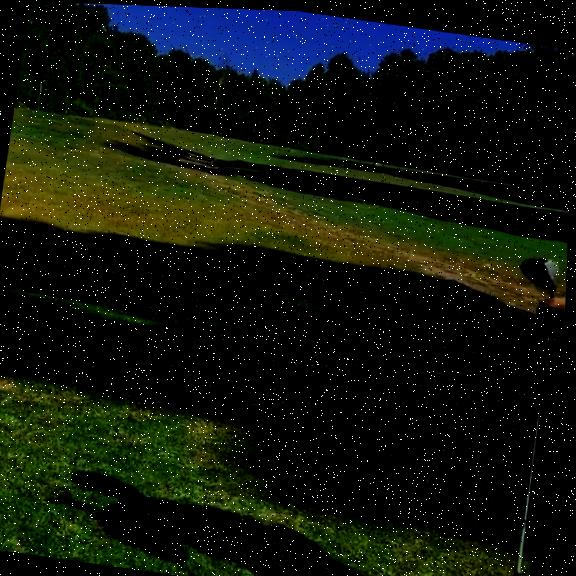ClubHead: (518, 251, 566, 287)
